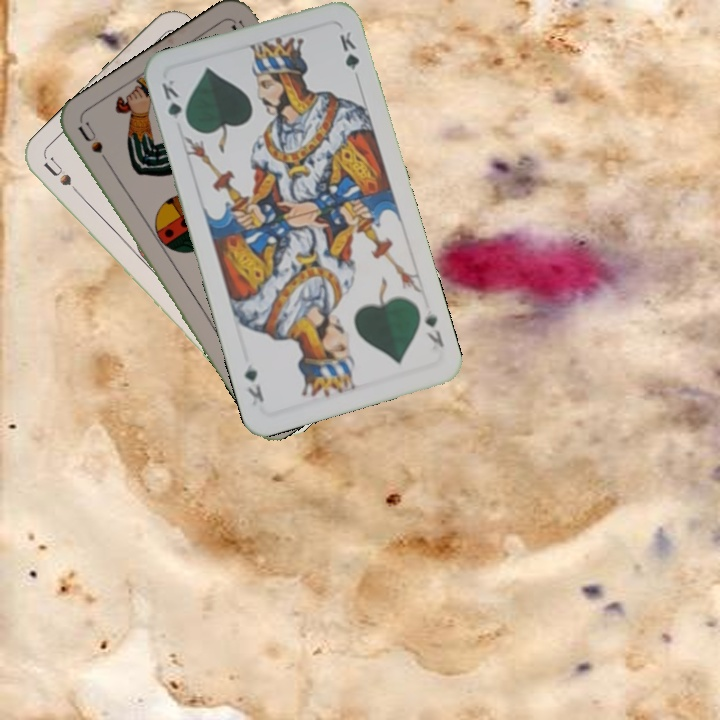GK: (157, 75, 192, 130), (420, 309, 447, 350)
SU: (39, 154, 88, 204), (74, 118, 116, 173)
